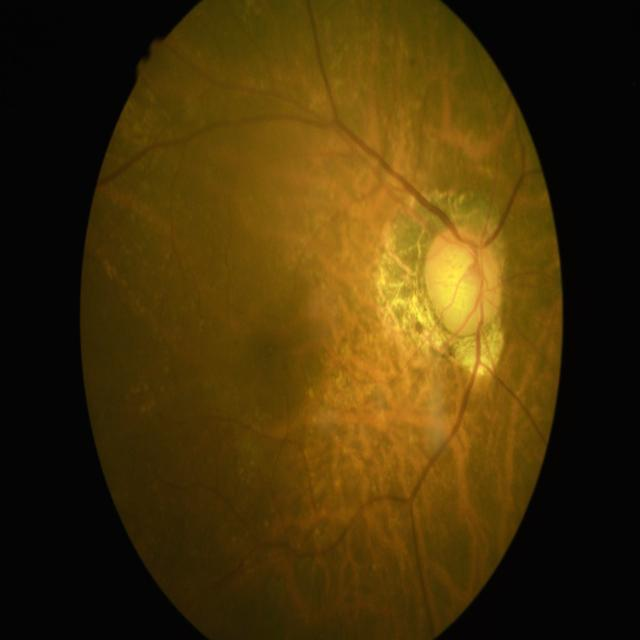cup: (434, 242, 487, 322)
disk: (424, 221, 508, 337)
